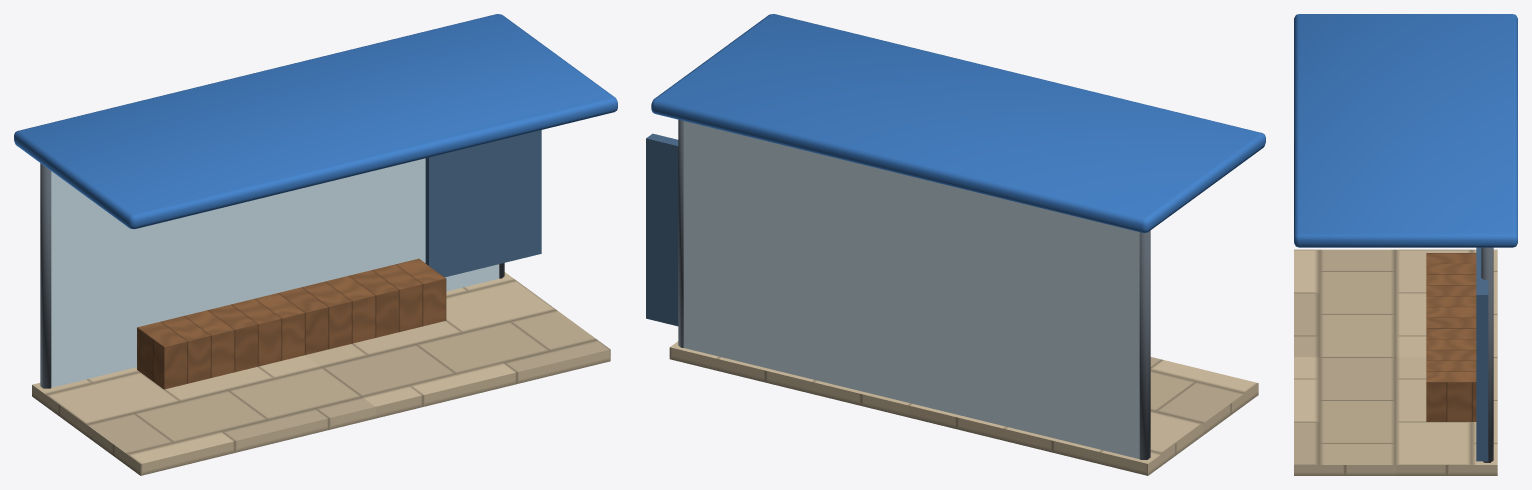
File: bus_stop.gltf
3 views of the same model, side by side, from view 1: azimuth 30°, elevation 25°; view 2: azimuth 150°, elevation 25°; view 3: azimuth 270°, elevation 25° (orthographic). The views are drawn at different scales.
Parts seen in each view (by area): view 1: bus_stop_mesh; view 2: bus_stop_mesh; view 3: bus_stop_mesh.
Boxes of the visible parts, left/top/right/bottom form: bus_stop_mesh: left=14, top=14, right=617, bottom=475; bus_stop_mesh: left=646, top=14, right=1265, bottom=475; bus_stop_mesh: left=1294, top=14, right=1517, bottom=475.
Size of what is drawn, in the model's own units: 5.4 by 2.65 by 2.2.
6 materials, 2 textured.
